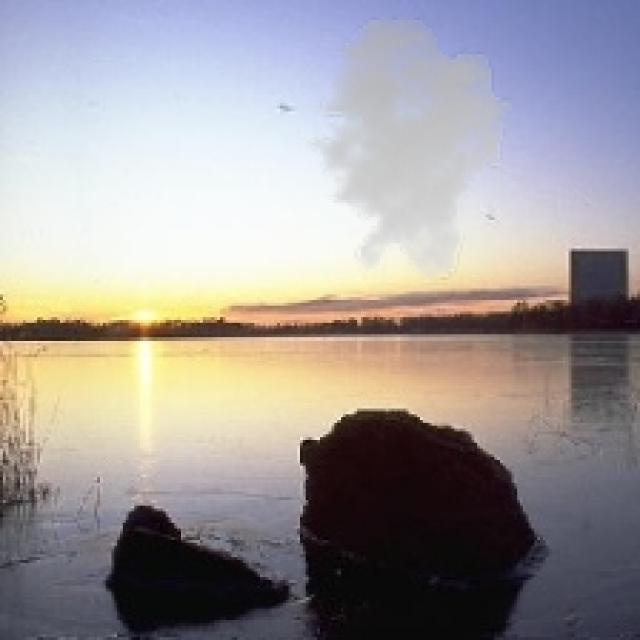smoke: (297, 14, 517, 283)
